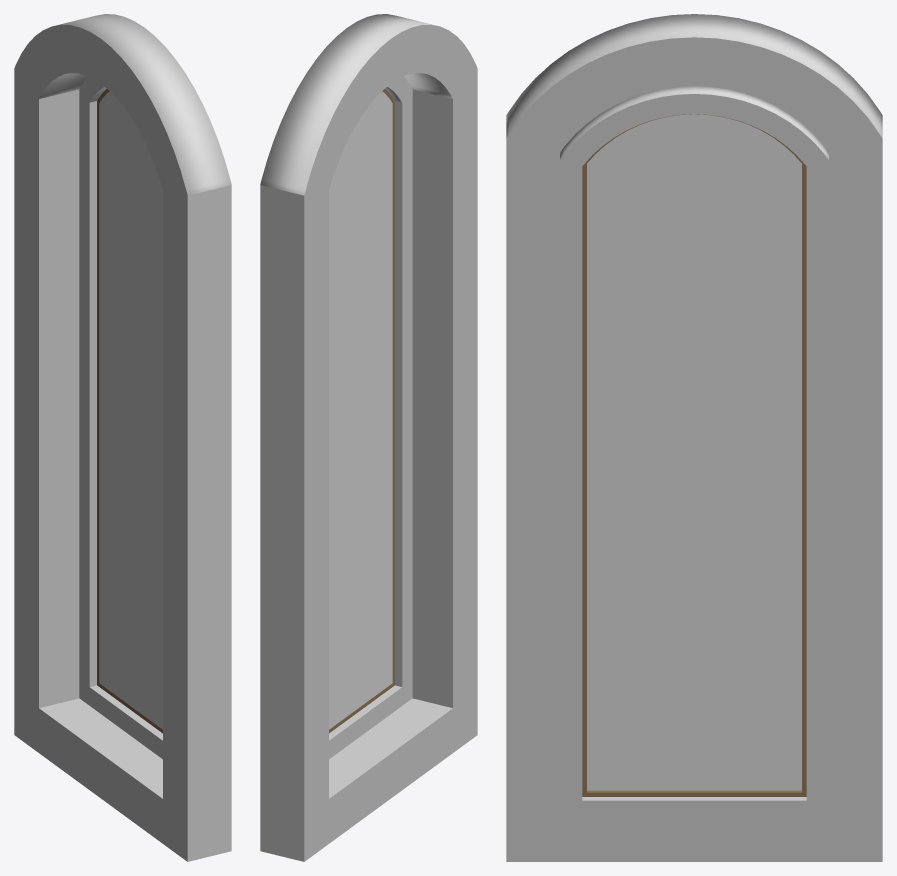
File: window.fbx
The picture shows the model from 3 angles, left to right: view 1: azimuth 30°, elevation 25°; view 2: azimuth 150°, elevation 25°; view 3: azimuth 270°, elevation 25°; orthographic projection. The views are drawn at different scales.
Visible parts, largest first — view 1: Window.000; view 2: Window.000; view 3: Window.000.
Boxes of the visible parts, x1,y1,x2,y2 form: Window.000: [14, 14, 231, 861]; Window.000: [260, 14, 477, 861]; Window.000: [506, 14, 882, 861].
Bounding box in the file's own units: 34.56 × 426 × 176.
